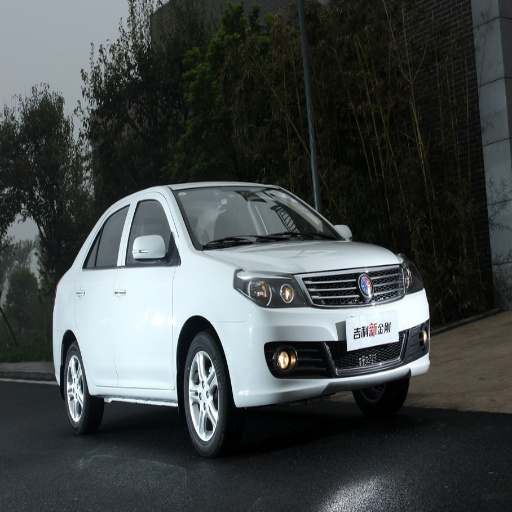front_bumper: (221, 265, 429, 403)
front_right_door: (115, 193, 174, 388)
front_right_light: (234, 270, 294, 306)
